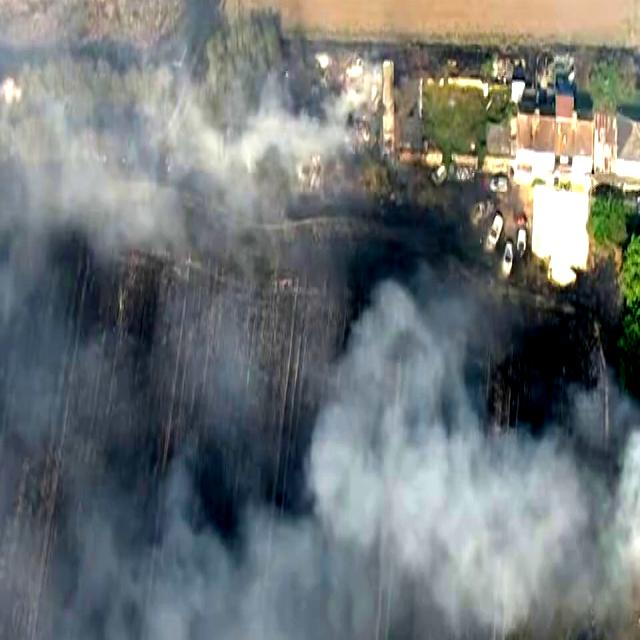smoke: (336, 335, 640, 594)
